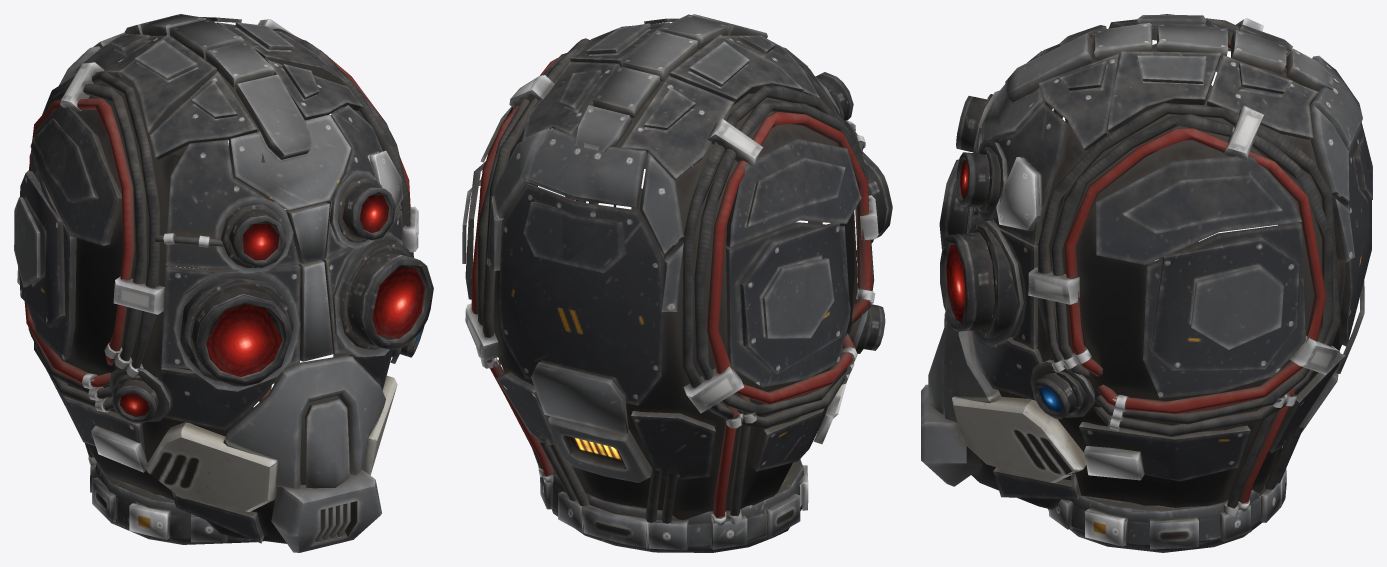
Rendered from red_witness_helmet_d0_lod1.glb.
3 views of the same model, side by side, from view 1: azimuth 30°, elevation 25°; view 2: azimuth 150°, elevation 25°; view 3: azimuth 270°, elevation 25° (orthographic). The views are drawn at different scales.
Parts seen in each view (by area): view 1: PART_SHELL; view 2: PART_SHELL; view 3: PART_SHELL.
Boxes of the visible parts, x1,y1,x2,y2 form: PART_SHELL: (14,14,433,552); PART_SHELL: (462,14,892,552); PART_SHELL: (921,14,1372,552).
Bounding box in the file's own units: 0.2648 × 0.3393 × 0.2977.
Materials: 1 (1 with a texture image).
